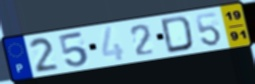2: (28, 36, 61, 75), (130, 24, 156, 58)
4: (100, 26, 127, 62)
5: (57, 30, 91, 69), (193, 10, 223, 48)
D: (160, 14, 196, 55)
